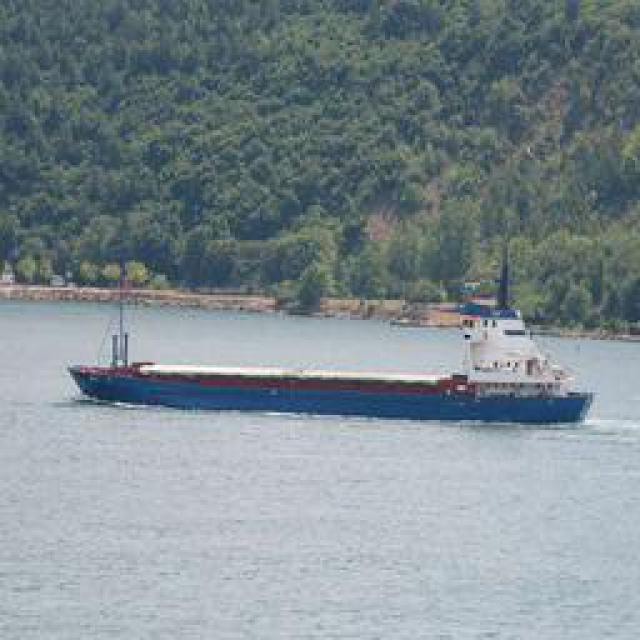Ship: (80, 311, 593, 429)
